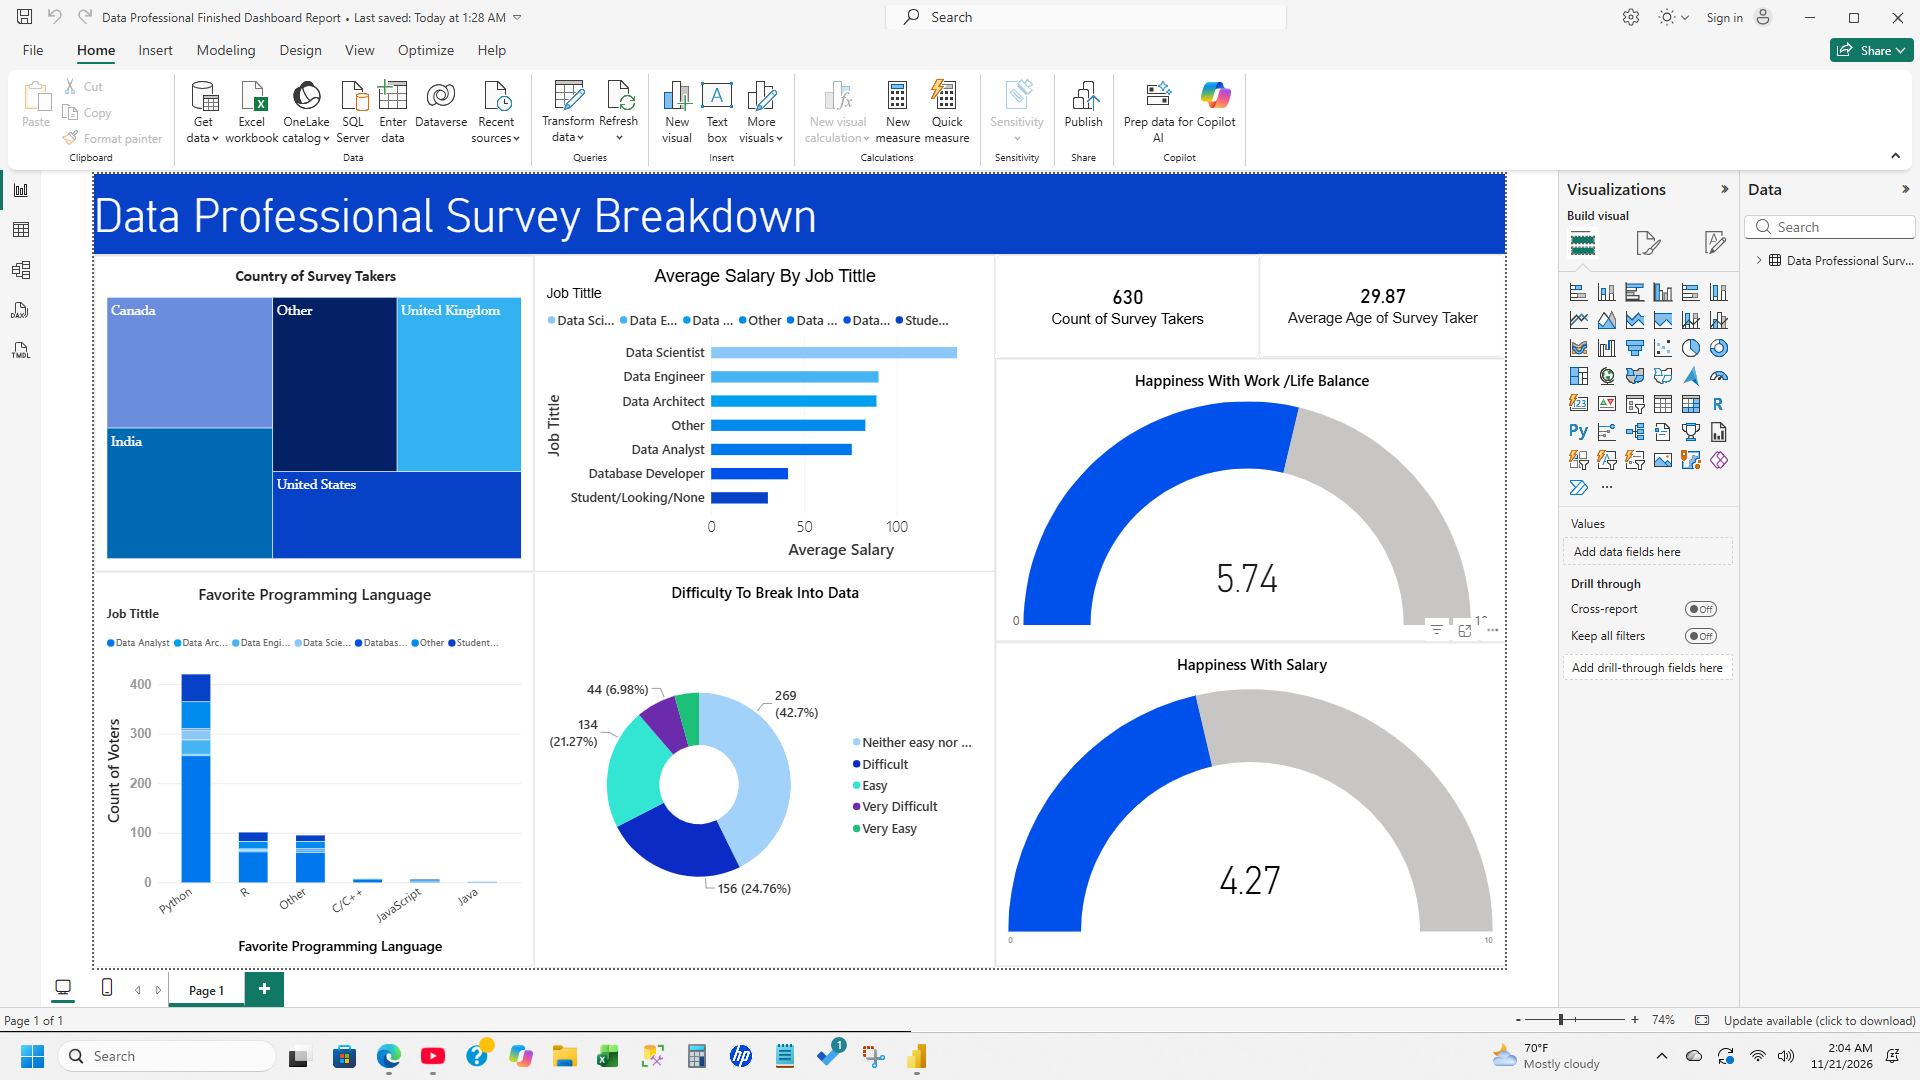

The page's visual inventory and layout, read from the dashboard file:
{"tool":"powerbi","page":{"name":"Page 1","canvas":[1920,1080],"ordinal":0},"visuals":[{"type":"textbox","box":[0,0,1920,109.1],"z":0},{"type":"cardVisual","fields":{"Data":["Avg(Data Professional Survey.Q10 - Current Age)"]},"box":[1584.6,108.8,336,141.5],"z":2000},{"type":"barChart","title":"Average Salary By Job Tittle","fields":{"Category":["Data Professional Survey.Q1 - Which Title Best Fits your Current Role?.1","Data Professional Survey.Q12 - Highest Level of Education"],"Series":["Data Professional Survey.Q1 - Which Title Best Fits your Current Role?.1"],"Y":["Avg(Data Professional Survey.Average Salary)"]},"box":[598.8,109.6,626.6,430.6],"z":3000},{"type":"columnChart","title":" Favorite Programming Language","fields":{"Category":["Data Professional Survey.Q5 - Favorite Programming Language.1"],"Series":["Data Professional Survey.Q1 - Which Title Best Fits your Current Role?.1"],"Y":["CountNonNull(Data Professional Survey.Unique ID)"]},"box":[0,541.4,598.5,537.3],"z":4000},{"type":"treemap","title":"Country of Survey Takers","fields":{"Group":["Data Professional Survey.Q11 - Which Country do you live in?.1"],"Values":["Count(Data Professional Survey.Q11 - Which Country do you live in?.1)"]},"box":[0,109.6,598.8,430.6],"z":5000},{"type":"gauge","title":"Happiness  With Work /Life Balance","fields":{"MaxValue":["Max(Data Professional Survey.Q6 - How Happy are you in your Current Position with the following? (Work/Life Balance))2"],"MinValue":["Min(Data Professional Survey.Q6 - How Happy are you in your Current Position with the following? (Work/Life Balance))1"],"Y":["Avg(Data Professional Survey.Q6 - How Happy are you in your Current Position with the following? (Work/Life Balance))"]},"box":[1225.5,250.3,695.1,386.3],"z":6000},{"type":"gauge","title":"Happiness With Salary","fields":{"MaxValue":["Max(Data Professional Survey.Q6 - How Happy are you in your Current Position with the following? (Salary))"],"MinValue":["Min(Data Professional Survey.Q6 - How Happy are you in your Current Position with the following? (Salary))"],"Y":["Avg(Data Professional Survey.Q6 - How Happy are you in your Current Position with the following? (Salary))"]},"box":[1225.5,636.6,695.1,442.1],"z":7000},{"type":"donutChart","title":"Difficulty To Break Into Data","fields":{"Category":["Data Professional Survey.Q7 - How difficult was it for you to break into Data?","Data Professional Survey.Q4 - What Industry do you work in?.1"],"Y":["CountNonNull(Data Professional Survey.Q7 - How difficult was it for you to break into Data?)"]},"box":[598.8,540.2,626.6,540.2],"z":8000},{"type":"cardVisual","fields":{"Data":["Count(Data Professional Survey.Unique ID)"]},"box":[1225.5,110.2,359.1,140.1],"z":8001}]}

Visuals, with their boxes on the page's 1920x1080 design canvas (x1, y1, x2, y2). These are canvas units, not pixel positions in the 1920x1080 screenshot, which may show the page scaled, cropped or inside an application window:
textbox: [left=0, top=0, right=1920, bottom=109]
cardVisual - Avg(Data Professional Survey.Q10 - Current Age): [left=1585, top=109, right=1921, bottom=250]
"Average Salary By Job Tittle" barChart: [left=599, top=110, right=1225, bottom=540]
" Favorite Programming Language" columnChart: [left=0, top=541, right=598, bottom=1079]
"Country of Survey Takers" treemap: [left=0, top=110, right=599, bottom=540]
"Happiness  With Work /Life Balance" gauge: [left=1226, top=250, right=1921, bottom=637]
"Happiness With Salary" gauge: [left=1226, top=637, right=1921, bottom=1079]
"Difficulty To Break Into Data" donutChart: [left=599, top=540, right=1225, bottom=1080]
cardVisual - Count(Data Professional Survey.Unique ID): [left=1226, top=110, right=1585, bottom=250]
